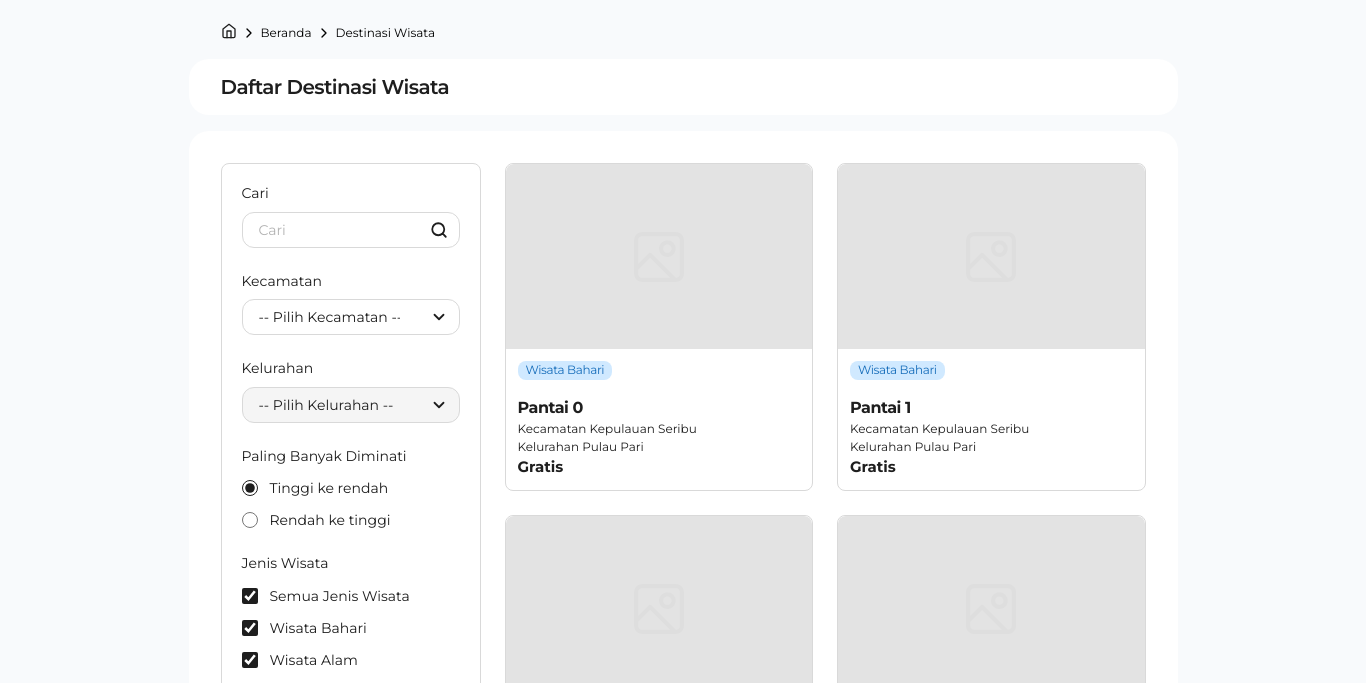
Test: PublicWisataListView › paginates client-side results and walks every API page when filtering
In the search field with test id "public-list-search": (350, 230) [242,212,460,248], type "pantai"
(page scrolled)
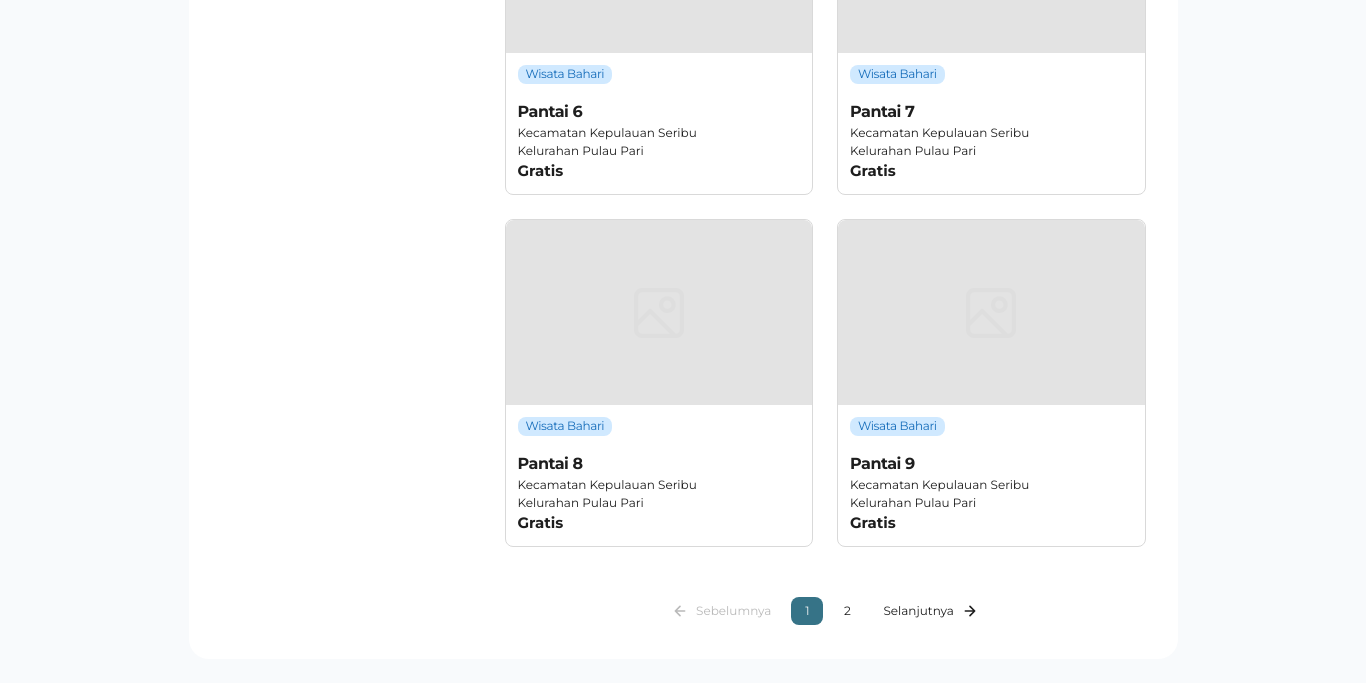
Click the button with test id "pagination-page-2": (847, 611) [831,597,863,625]
(page scrolled)
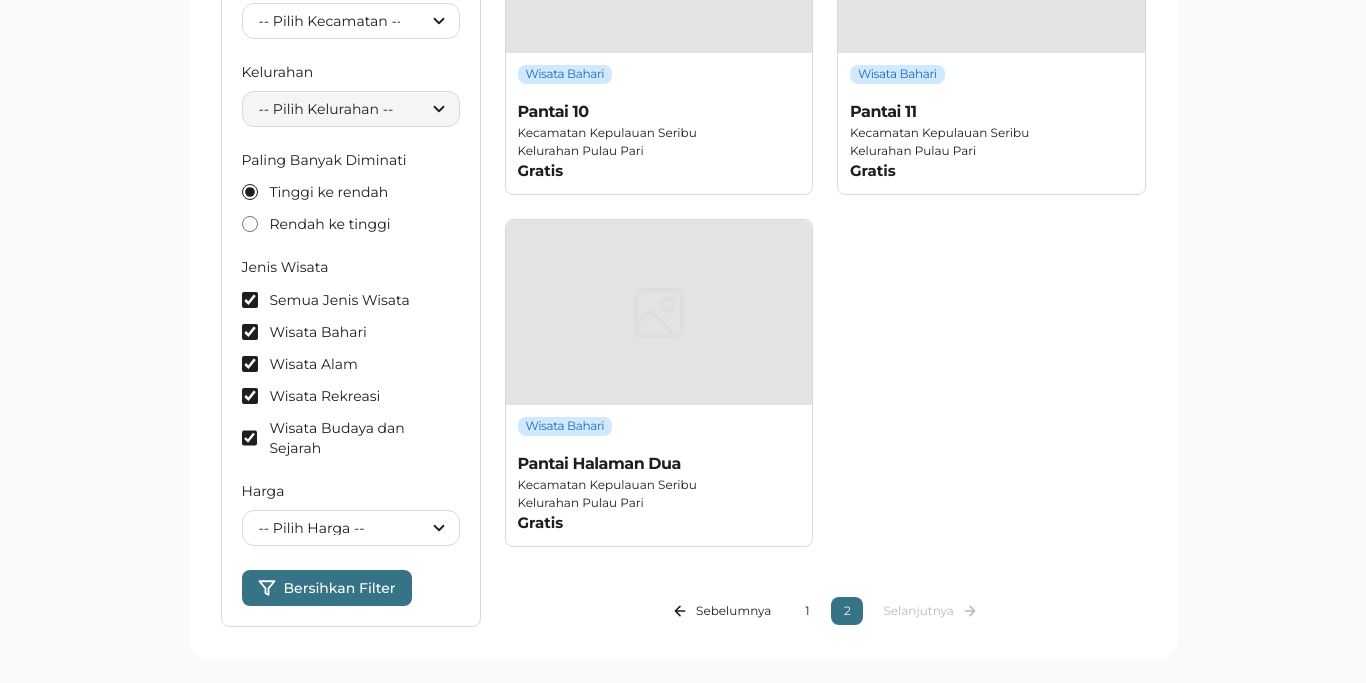
Expected: the elements with test id "-nama" read "Pantai 10", "Pantai 11", "Pantai Halaman Dua", in this order, [518,102,589,121]; [850,102,916,121]; [518,454,681,473]
